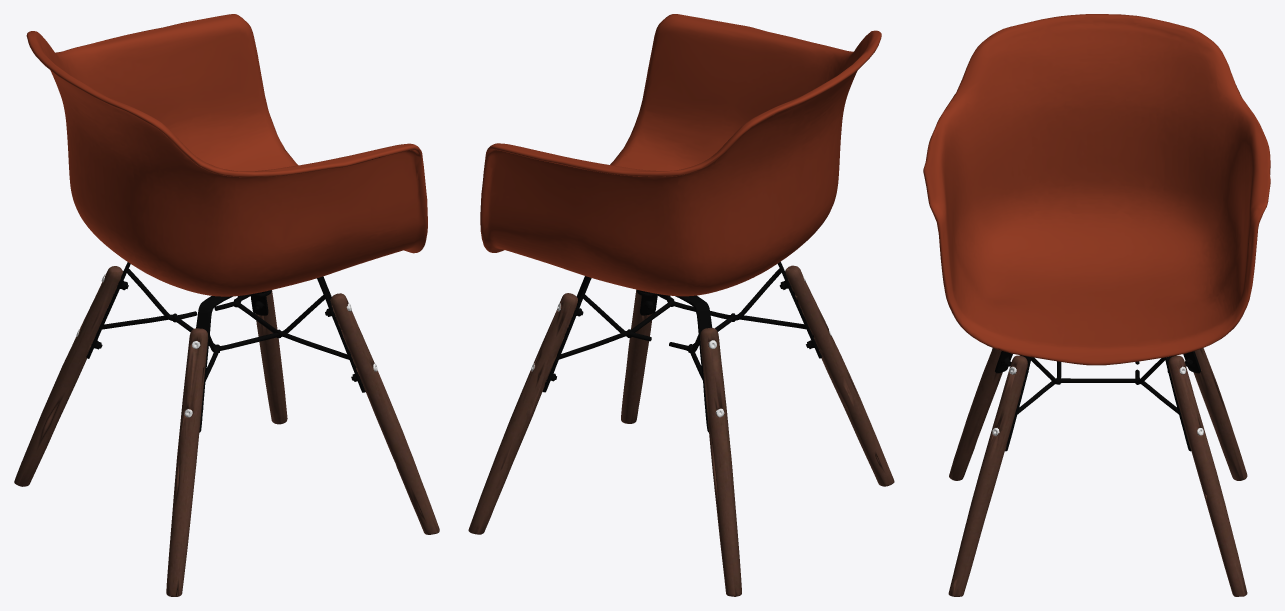
File: ND-0608__Elon_Arms5.glb
3 renders of one model, left to right at view 1: azimuth 30°, elevation 25°; view 2: azimuth 150°, elevation 25°; view 3: azimuth 270°, elevation 25°, orthographic. The views are drawn at different scales.
Visible parts, largest first — view 1: tripo_node_b968e583-11d0-47e2-a982-90cddb693f50.002, tripo_node_b968e583-11d0-47e2-a982-90cddb693f50, tripo_node_b968e583-11d0-47e2-a982-90cddb693f50.003; view 2: tripo_node_b968e583-11d0-47e2-a982-90cddb693f50.002, tripo_node_b968e583-11d0-47e2-a982-90cddb693f50, tripo_node_b968e583-11d0-47e2-a982-90cddb693f50.003; view 3: tripo_node_b968e583-11d0-47e2-a982-90cddb693f50.002, tripo_node_b968e583-11d0-47e2-a982-90cddb693f50, tripo_node_b968e583-11d0-47e2-a982-90cddb693f50.003.
Part boxes in pixels (<box>): tripo_node_b968e583-11d0-47e2-a982-90cddb693f50.002: <box>26,14,427,296</box>; tripo_node_b968e583-11d0-47e2-a982-90cddb693f50: <box>14,266,439,596</box>; tripo_node_b968e583-11d0-47e2-a982-90cddb693f50.003: <box>86,262,365,432</box>; tripo_node_b968e583-11d0-47e2-a982-90cddb693f50.002: <box>480,14,881,296</box>; tripo_node_b968e583-11d0-47e2-a982-90cddb693f50: <box>468,265,894,596</box>; tripo_node_b968e583-11d0-47e2-a982-90cddb693f50.003: <box>542,262,821,432</box>; tripo_node_b968e583-11d0-47e2-a982-90cddb693f50.002: <box>923,14,1270,365</box>; tripo_node_b968e583-11d0-47e2-a982-90cddb693f50: <box>948,348,1247,596</box>; tripo_node_b968e583-11d0-47e2-a982-90cddb693f50.003: <box>995,351,1200,451</box>.
Size of the model in its own units: 0.659 by 0.9799 by 0.6906.
Materials: 4 (1 with a texture image).
